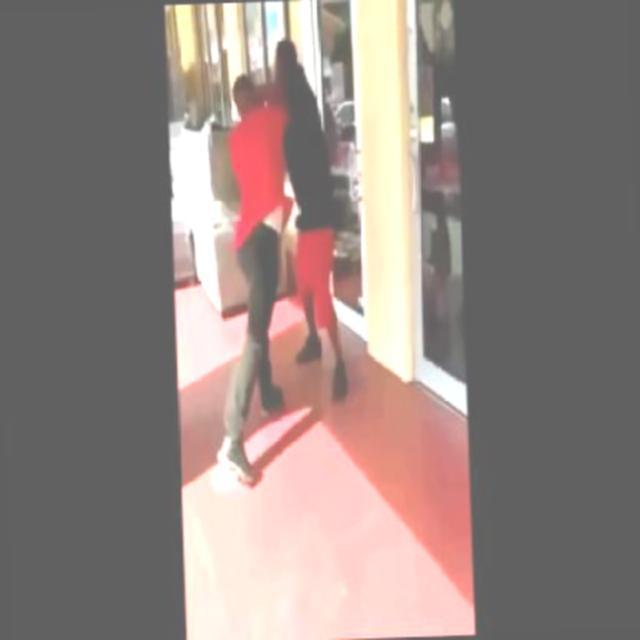fight: (230, 37, 350, 408)
